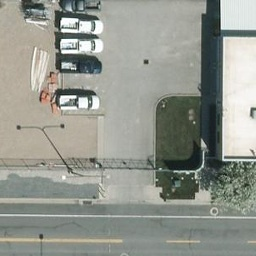car: (56, 92, 99, 111), (60, 16, 104, 33), (61, 37, 103, 53), (61, 56, 100, 72), (59, 1, 101, 10)
